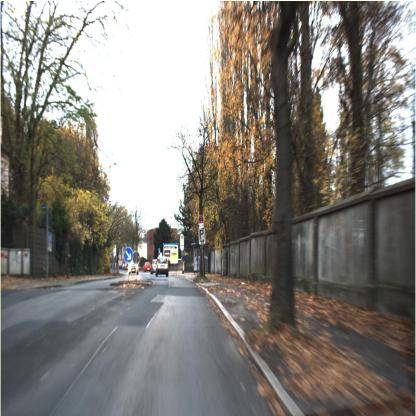mandatory: (121, 242, 135, 266)
